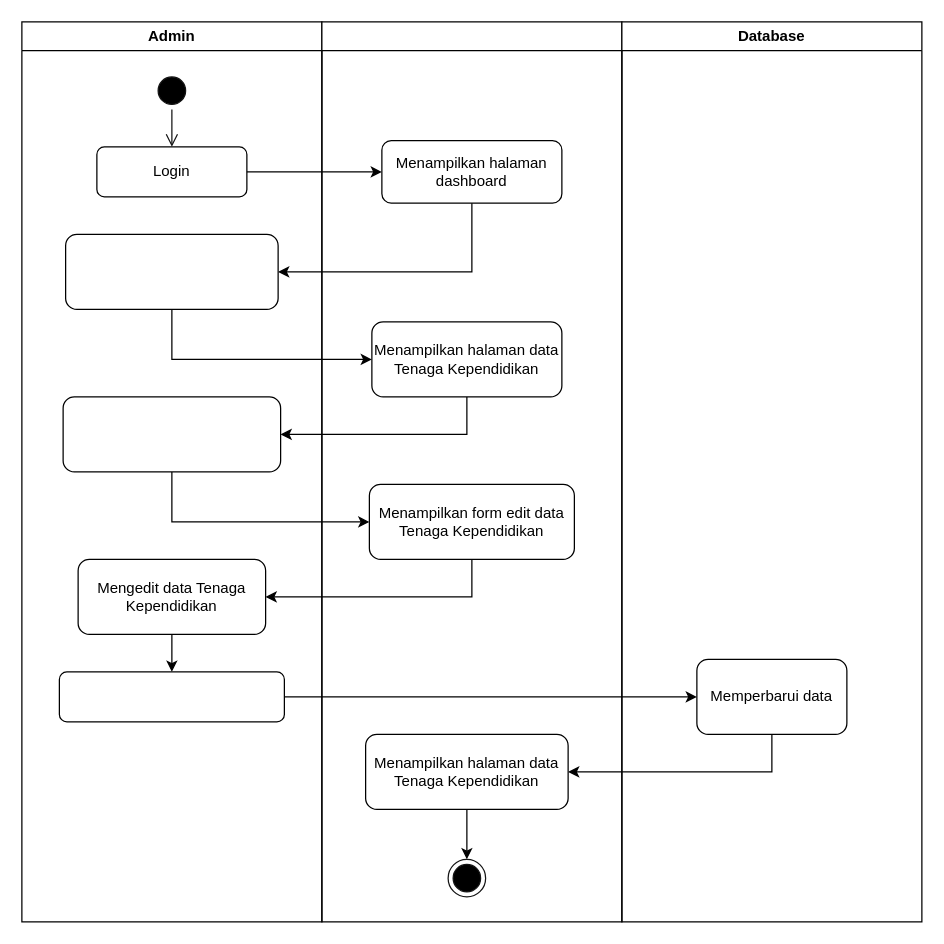
This 944x944 diagram has some shape labels left out. The box of each missing label's shape, as (x1, y1, x2, y2) in pixels:
Memilih menu Tenaga Kependidikan: (64, 233, 278, 309)
Menekan tombol edit data Tenaga Kependidikan: (62, 396, 281, 472)
Menekan tombol simpan: (58, 671, 284, 722)
Sistem: (321, 21, 622, 922)
